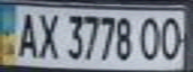3: (60, 11, 84, 61)
7: (81, 11, 100, 61), (100, 12, 118, 61)
8: (115, 14, 136, 62)
A: (12, 8, 42, 60)
O: (157, 14, 187, 62), (136, 14, 163, 62)
X: (33, 8, 60, 60)
